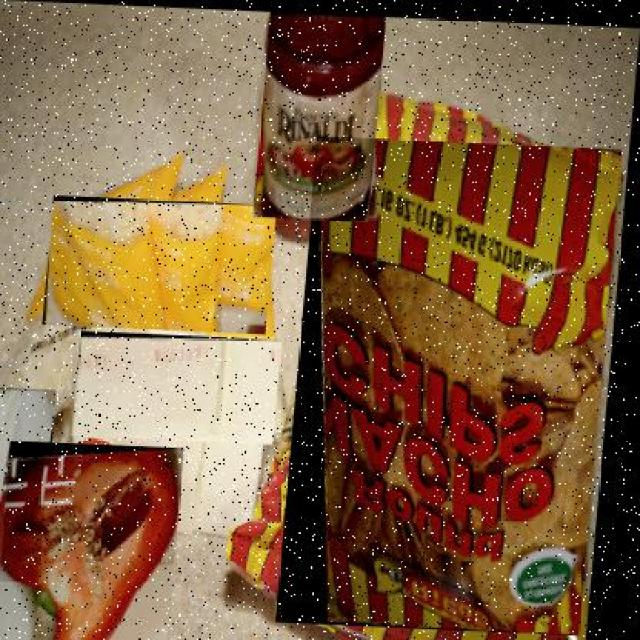cheese: (46, 195, 280, 334), (77, 329, 287, 443)
ketchup: (255, 9, 387, 220)
nacho_chips: (284, 132, 624, 630)
onion: (0, 386, 63, 582)
pimento: (1, 440, 194, 638)
